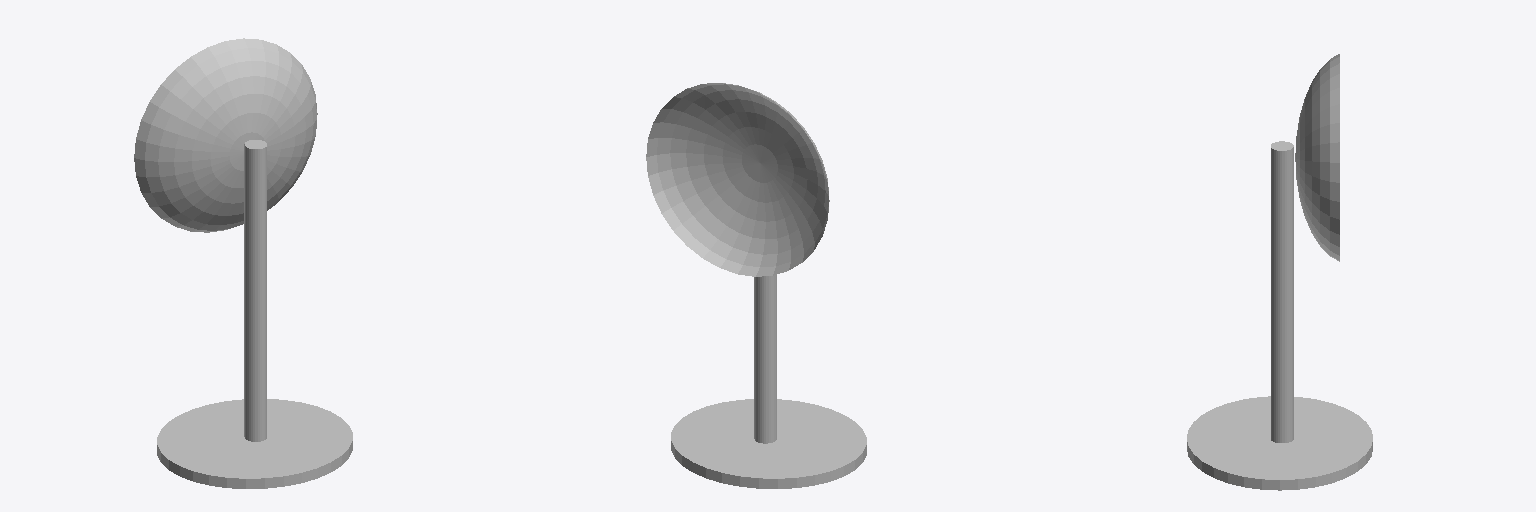
Rendered from ventilador.obj.
The picture shows the model from 3 angles: view 1: azimuth 30°, elevation 25°; view 2: azimuth 150°, elevation 25°; view 3: azimuth 270°, elevation 25°; orthographic projection.
Parts seen in each view (by area): view 1: Sphere, Cylinder.001, Cylinder; view 2: Sphere, Cylinder.001, Cylinder; view 3: Cylinder.001, Sphere, Cylinder.
Part boxes in pixels (bbox=[...]): Sphere: bbox=[134, 38, 317, 232]; Cylinder.001: bbox=[157, 399, 352, 488]; Cylinder: bbox=[244, 140, 266, 441]; Sphere: bbox=[646, 83, 829, 276]; Cylinder.001: bbox=[671, 399, 866, 488]; Cylinder: bbox=[754, 275, 776, 443]; Cylinder.001: bbox=[1187, 396, 1372, 490]; Sphere: bbox=[1295, 54, 1339, 261]; Cylinder: bbox=[1271, 141, 1293, 442].
Size of the model in its own units: 1.31 by 2.64 by 1.16.